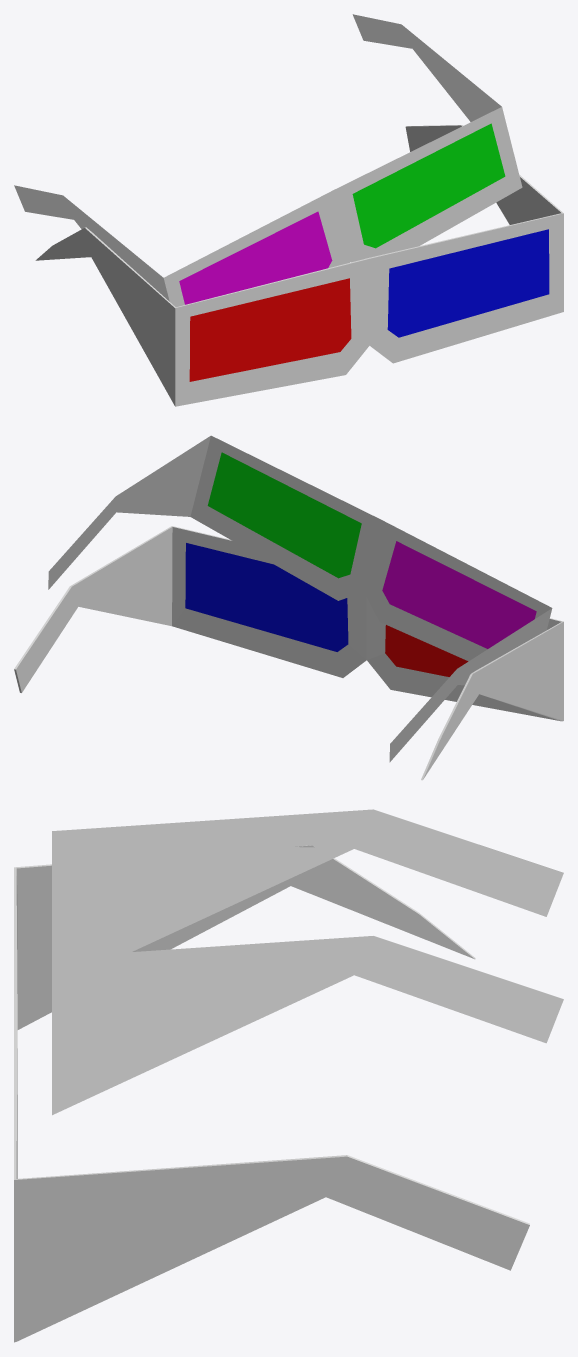
Rendered from FourDimentionalGlasses 1.fbx.
The picture shows the model from 3 angles, top to bottom: view 1: azimuth 30°, elevation 25°; view 2: azimuth 150°, elevation 25°; view 3: azimuth 270°, elevation 25°; orthographic projection. The views are drawn at different scales.
Visible parts, largest first — view 1: Cube, Cube.001; view 2: Cube.001, Cube; view 3: Cube.001, Cube.
Part boxes in pixels (bbox=[...]): Cube: bbox=[35, 125, 563, 406]; Cube.001: bbox=[14, 14, 522, 306]; Cube.001: bbox=[48, 435, 552, 762]; Cube: bbox=[14, 526, 563, 780]; Cube.001: bbox=[52, 809, 563, 1115]; Cube: bbox=[14, 845, 529, 1342].
Bounding box in the file's own units: 202 × 113 × 149.
